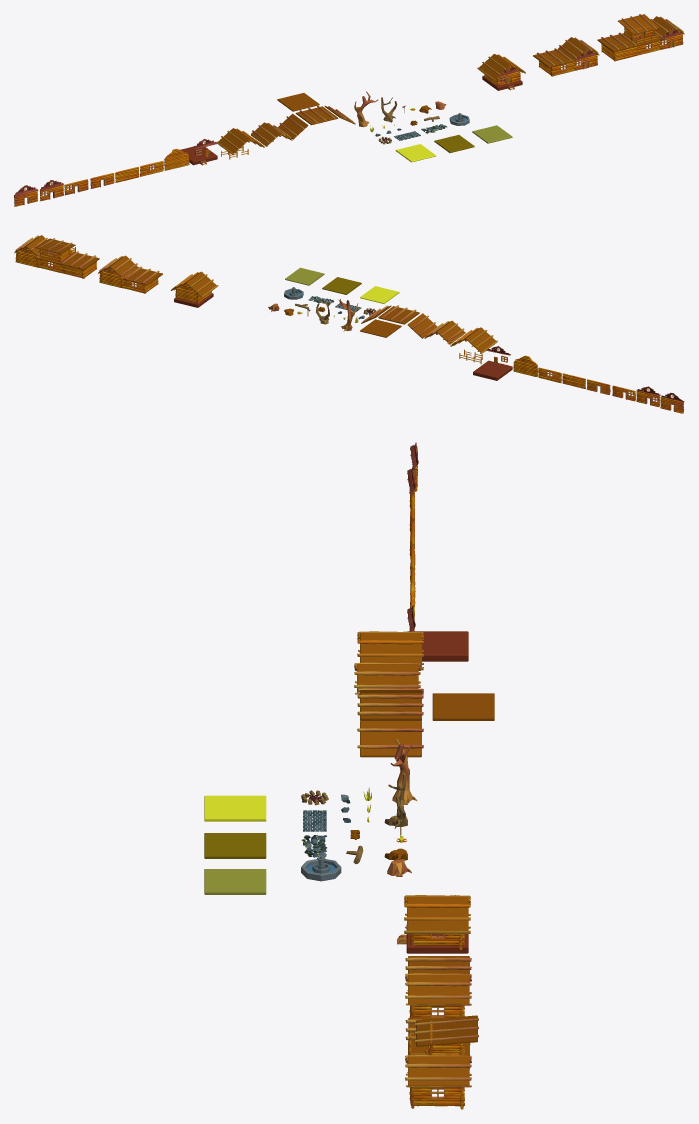
The model's file is house.glb.
3 renders of one model, top to bottom at view 1: azimuth 30°, elevation 25°; view 2: azimuth 150°, elevation 25°; view 3: azimuth 270°, elevation 25°, orthographic. The views are drawn at different scales.
Visible parts, largest first — view 1: L_Wall_EntranceRoofWindow006, L_Wall_EntranceRoofWindow005, L_Wall_EntranceRoofWindow001, Roof_Triangle, Roof_Triangle5, Roof_Middle1, Roof_Middle_Plane, Floor_Base3, Floor_Base1, Floor_Base2, Roof_Left, L_WallComplete_Triangle (+3 smaller); view 2: L_Wall_EntranceRoofWindow006, L_Wall_EntranceRoofWindow005, L_Wall_EntranceRoofWindow001, Roof_Triangle, Base_House01, Roof_Triangle5, Roof_Middle1, Roof_Middle_Plane, Floor_Base3, Floor_Base1, Floor_Base2, Roof_Left (+3 smaller); view 3: L_Wall_EntranceRoofWindow006, L_Wall_EntranceRoofWindow001, L_Wall_EntranceRoofWindow005, Roof_R, Roof_Triangle, Roof_Middle1, Roof_Middle_Plane, Roof_Triangle5, Floor_Base2, Floor_Base1, Floor_Base3, Base_House01.
Part boxes in pixels (left/top/right/bottom): L_Wall_EntranceRoofWindow006: left=597, top=14, right=684, bottom=61; L_Wall_EntranceRoofWindow005: left=533, top=37, right=599, bottom=76; L_Wall_EntranceRoofWindow001: left=477, top=54, right=525, bottom=90; Roof_Triangle: left=216, top=128, right=264, bottom=155; Roof_Triangle5: left=251, top=122, right=292, bottom=146; Roof_Middle1: left=295, top=106, right=338, bottom=125; Roof_Middle_Plane: left=277, top=93, right=319, bottom=111; Floor_Base3: left=472, top=125, right=512, bottom=143; Floor_Base1: left=434, top=135, right=474, bottom=152; Floor_Base2: left=395, top=144, right=436, bottom=162; Roof_Left: left=278, top=113, right=308, bottom=139; L_WallComplete_Triangle: left=164, top=148, right=189, bottom=170; L_Wall_EntranceRoofWindow006: left=14, top=235, right=99, bottom=278; L_Wall_EntranceRoofWindow005: left=98, top=255, right=162, bottom=293; L_Wall_EntranceRoofWindow001: left=171, top=271, right=218, bottom=307; Roof_Triangle: left=450, top=327, right=497, bottom=353; Base_House01: left=473, top=360, right=512, bottom=380; Roof_Triangle5: left=424, top=320, right=465, bottom=344; Roof_Middle1: left=378, top=305, right=419, bottom=324; Roof_Middle_Plane: left=360, top=319, right=401, bottom=337; Floor_Base3: left=285, top=267, right=324, bottom=285; Floor_Base1: left=322, top=277, right=361, bottom=294; Floor_Base2: left=360, top=286, right=399, bottom=303; Roof_Left: left=407, top=313, right=437, bottom=338; L_Wall_EntranceRoofWindow006: left=405, top=1015, right=478, bottom=1109; L_Wall_EntranceRoofWindow001: left=397, top=895, right=470, bottom=953; L_Wall_EntranceRoofWindow005: left=405, top=956, right=471, bottom=1017; Roof_R: left=357, top=721, right=423, bottom=757; Roof_Triangle: left=357, top=631, right=423, bottom=670; Roof_Middle1: left=357, top=693, right=423, bottom=720; Roof_Middle_Plane: left=432, top=693, right=494, bottom=720; Roof_Triangle5: left=354, top=662, right=420, bottom=694; Floor_Base2: left=204, top=795, right=266, bottom=821; Floor_Base1: left=204, top=833, right=266, bottom=858; Floor_Base3: left=204, top=869, right=266, bottom=894; Base_House01: left=407, top=631, right=468, bottom=661.
Bounding box in the file's own units: 363 × 16.62 × 69.44.
Materials: 1 (1 with a texture image).
